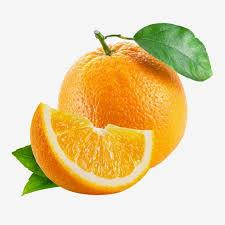orange: (59, 25, 192, 169), (22, 103, 171, 200)
